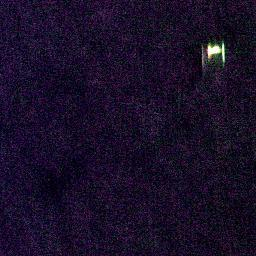Ship: (205, 40, 227, 65)
